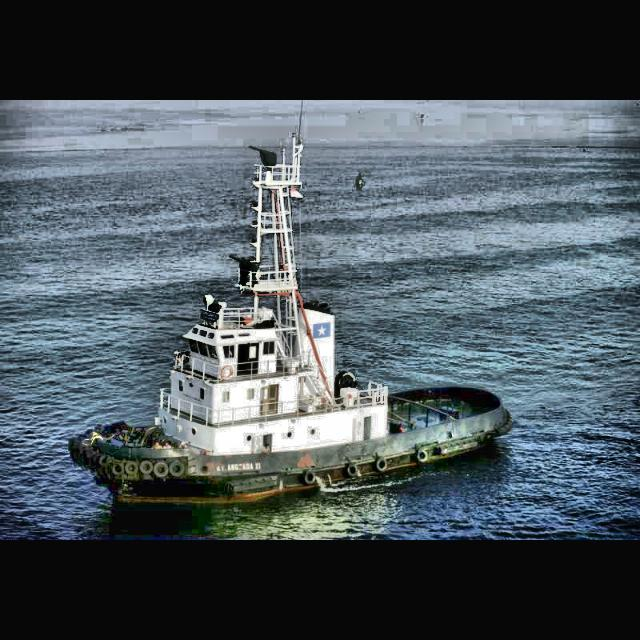tug: (68, 236, 516, 508)
